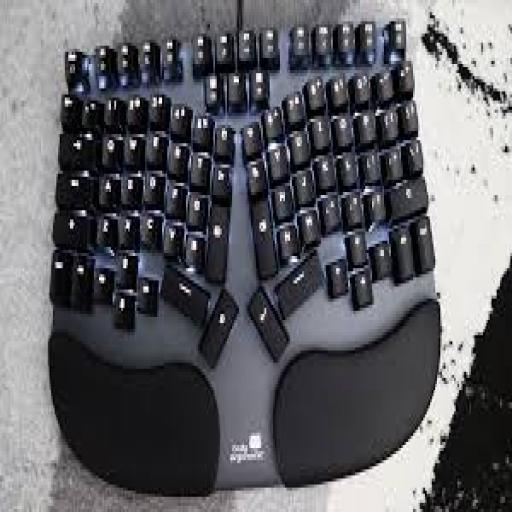KEYBOARD-2: (44, 15, 440, 494)
